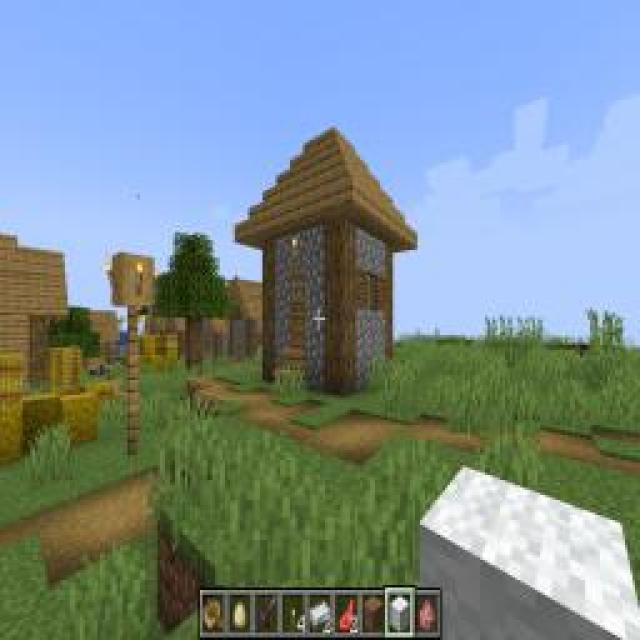Villager: (232, 121, 418, 389), (226, 270, 266, 365)
